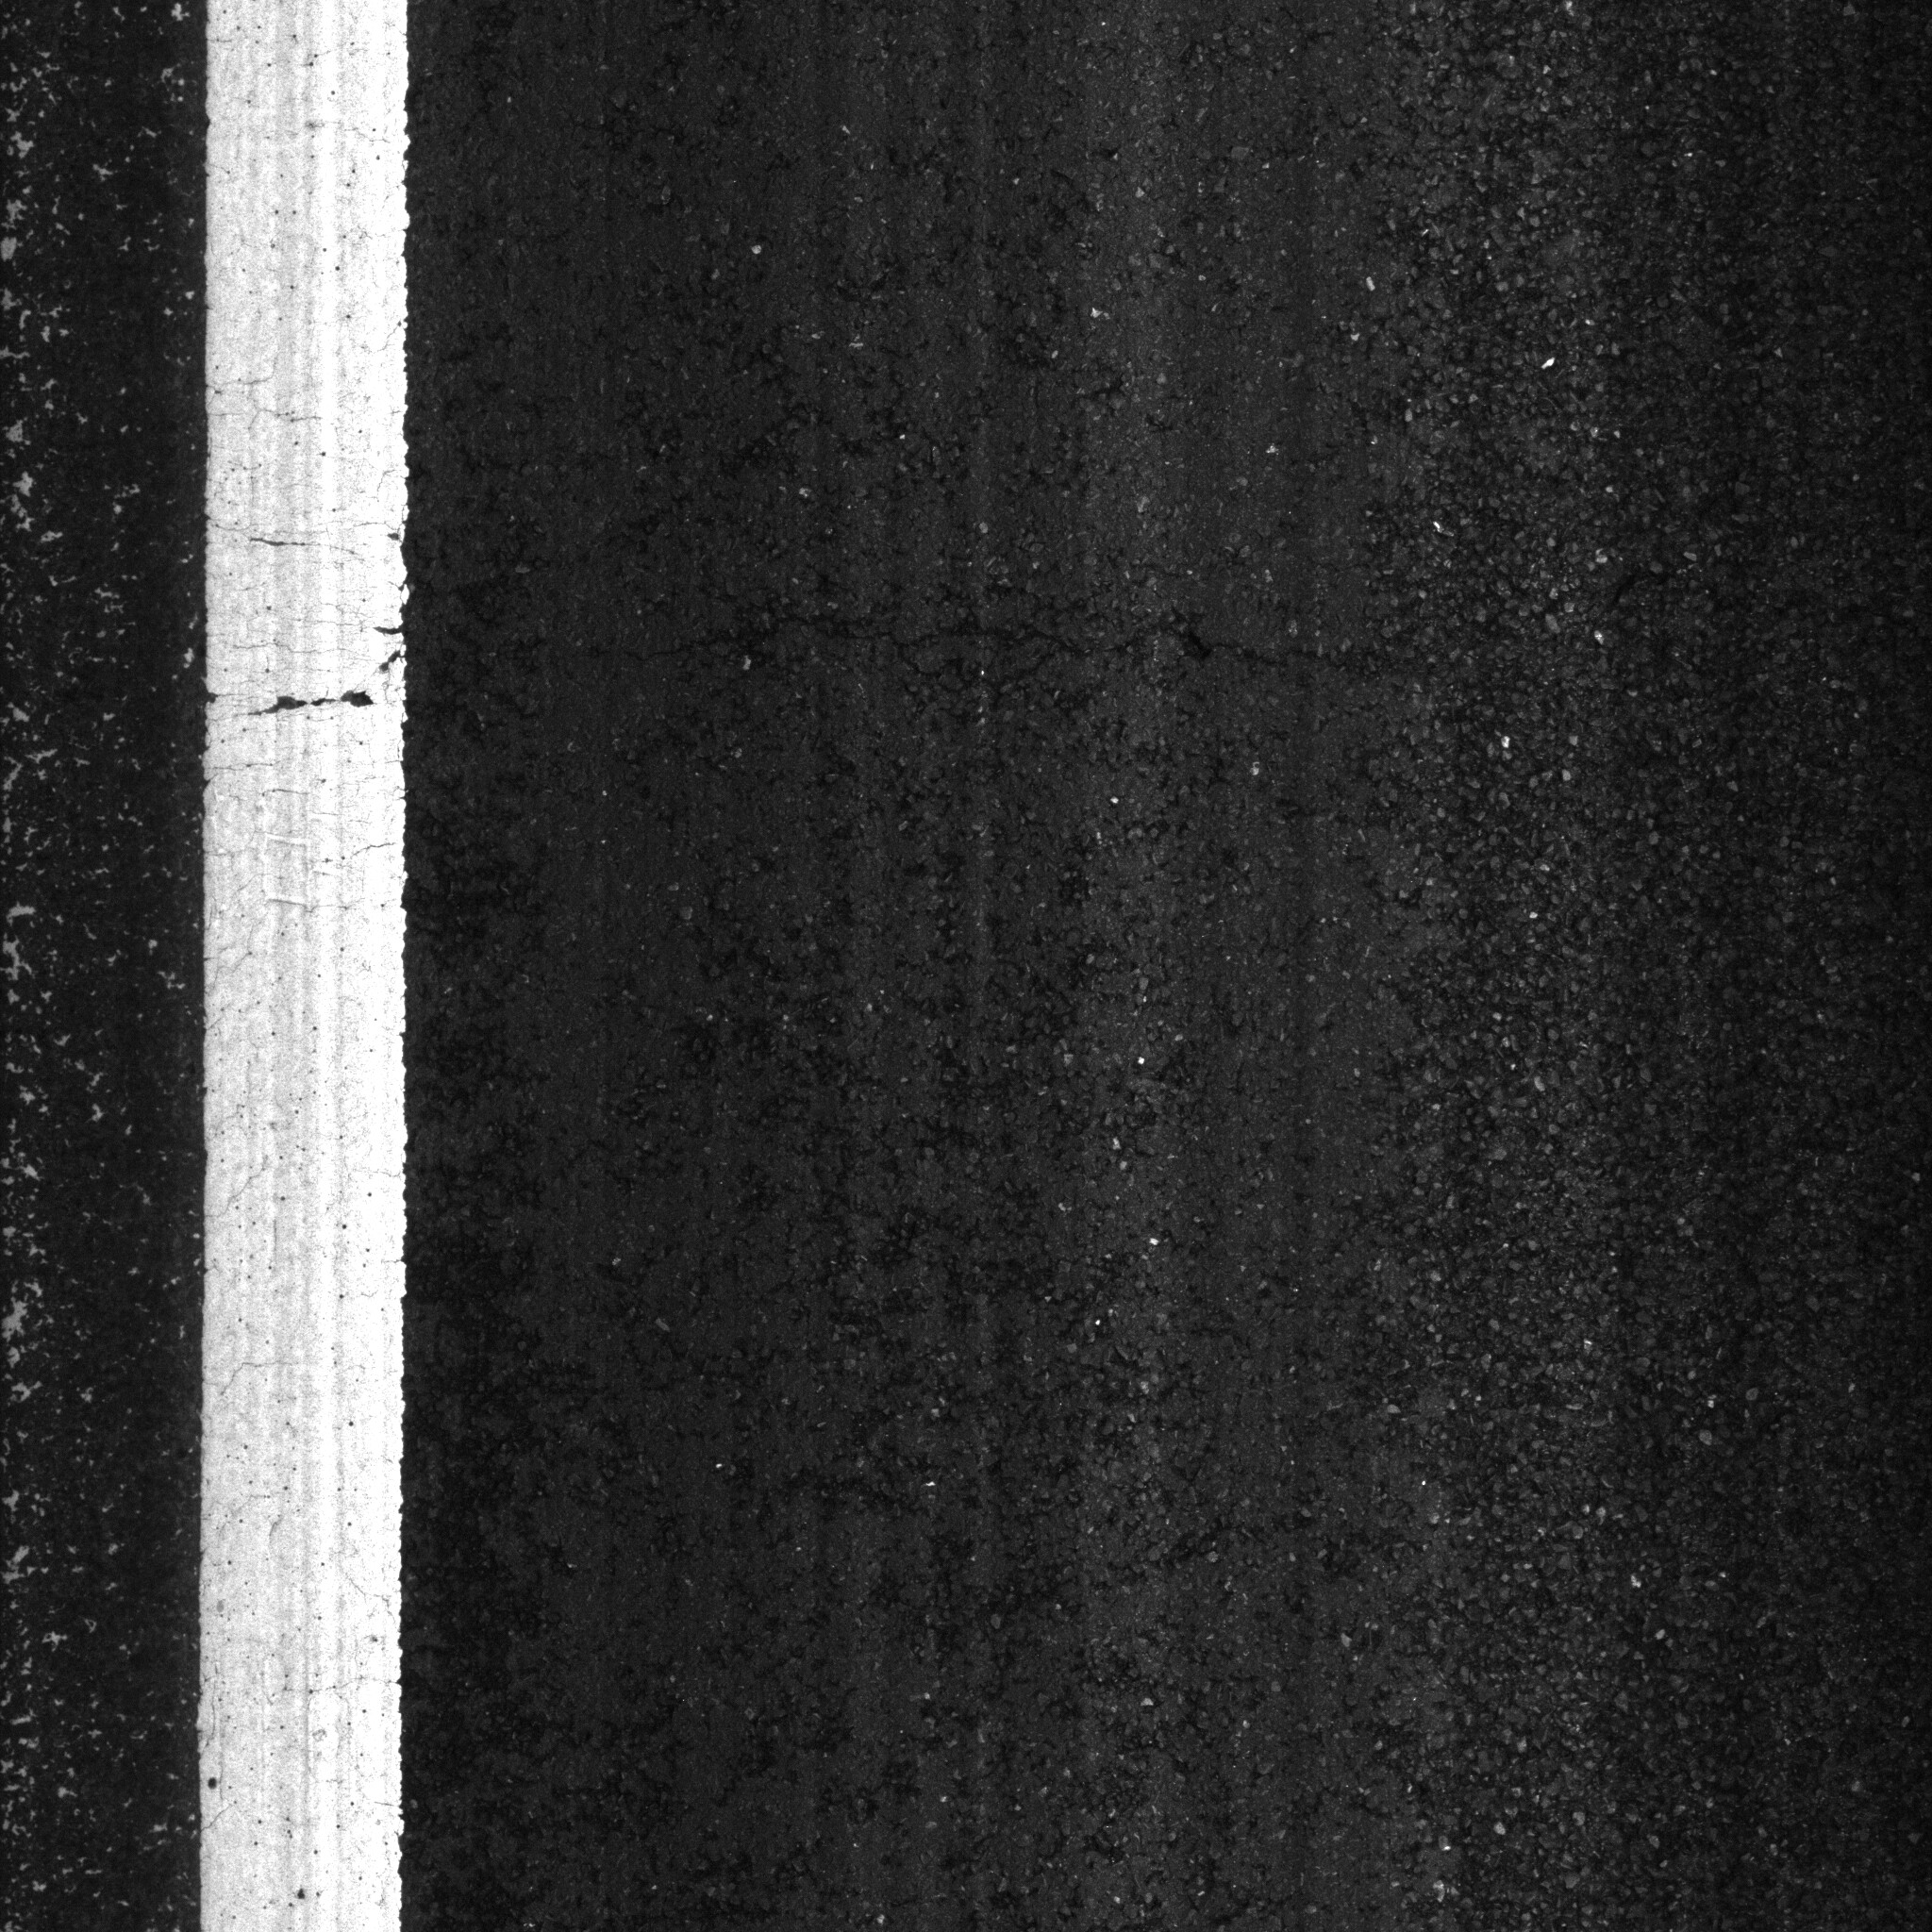transeverse: (616, 563, 1920, 708)
